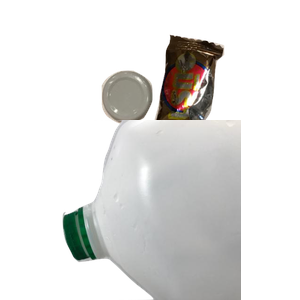glass: (115, 120, 300, 300)
metal: (99, 68, 244, 184)
plastic: (60, 120, 300, 300)
trash: (150, 32, 300, 172)
